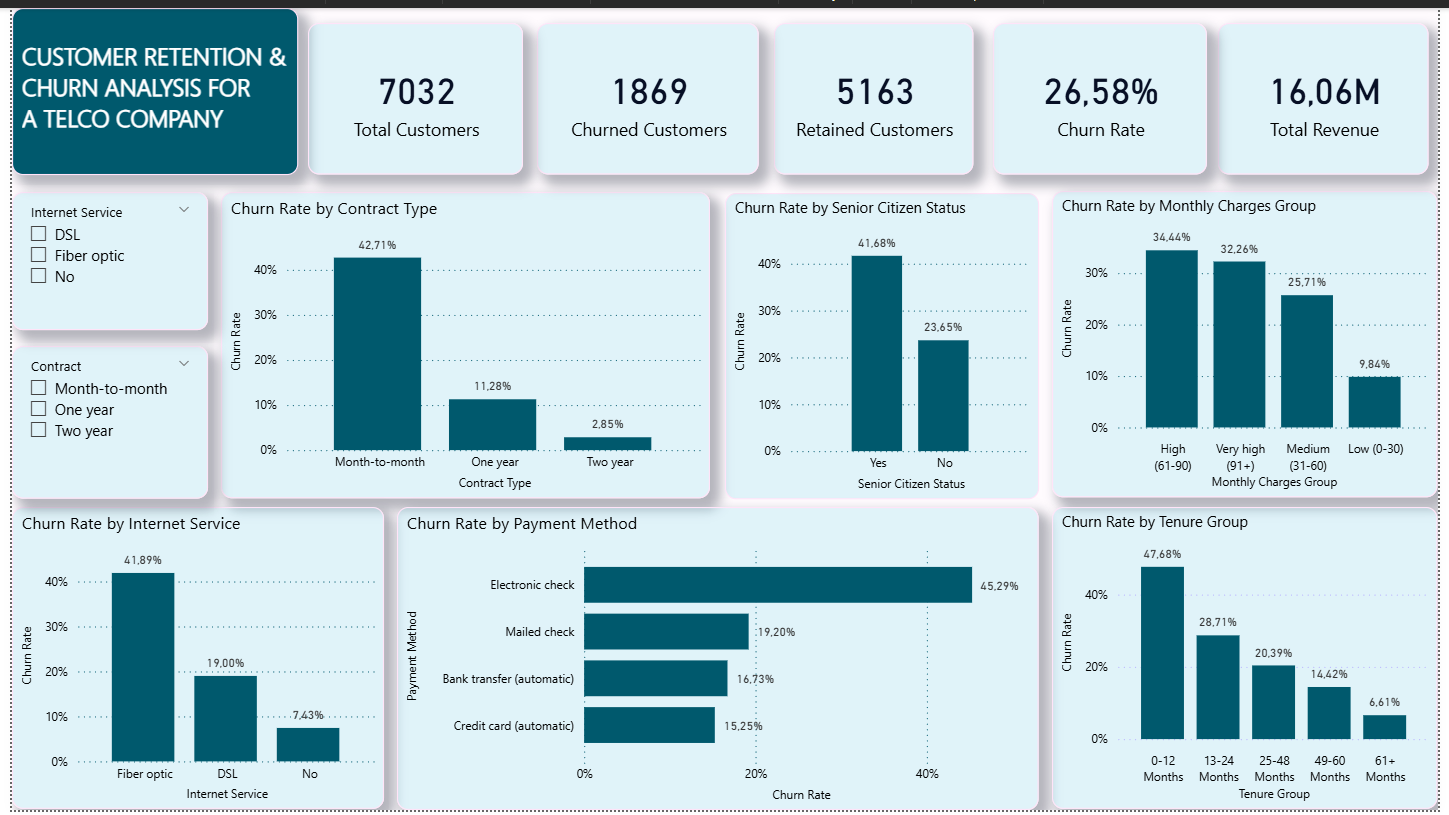

This screenshot's page, from the dashboard's own definition file:
{"tool":"powerbi","page":{"name":"Dashboiard","canvas":[1280,720],"ordinal":0},"visuals":[{"type":"columnChart","fields":{"Y":["telco_churn telco-customer-churn.ChurnRate"],"Category":["telco_churn telco-customer-churn.Contract"]},"box":[187.6,165.2,439,274.7],"z":0},{"type":"columnChart","fields":{"Y":["telco_churn telco-customer-churn.ChurnRate"],"Category":["telco_churn telco-customer-churn.InternetService"]},"box":[0,448.4,333.6,271.4],"z":1000},{"type":"clusteredBarChart","fields":{"Category":["telco_churn telco-customer-churn.PaymentMethod"],"Y":["telco_churn telco-customer-churn.ChurnRate"]},"box":[345.6,448,576.4,272],"z":2000},{"type":"columnChart","fields":{"Y":["telco_churn telco-customer-churn.ChurnRate"],"Category":["telco_churn telco-customer-churn.SeniorCitizenFlag"]},"box":[640.1,166.1,281.9,274.7],"z":3000},{"type":"columnChart","fields":{"Y":["telco_churn telco-customer-churn.ChurnRate"],"Category":["telco_churn telco-customer-churn.ChargesGroup"]},"box":[933.7,164.4,346.3,275.3],"z":4000},{"type":"columnChart","fields":{"Y":["telco_churn telco-customer-churn.ChurnRate"],"Category":["telco_churn telco-customer-churn.TenureGroup"]},"box":[933.7,448.4,346.3,271.4],"z":5000},{"type":"slicer","fields":{"Values":["telco_churn telco-customer-churn.Contract"]},"box":[0,303.4,176,137.4],"z":6000},{"type":"slicer","fields":{"Values":["telco_churn telco-customer-churn.InternetService"]},"box":[0,165.2,176,123.9],"z":7000},{"type":"textbox","box":[0,0,256.8,149.8],"z":8000},{"type":"card","fields":{"Values":["telco_churn telco-customer-churn.Total Revenue"]},"box":[1082.7,13.5,189.4,136.5],"z":9000},{"type":"card","fields":{"Values":["telco_churn telco-customer-churn.ChurnRate"]},"box":[880.7,13.5,192.1,136.5],"z":10000},{"type":"card","fields":{"Values":["telco_churn telco-customer-churn.Retained Customers"]},"box":[684.1,13.5,178.7,136.5],"z":11000},{"type":"card","fields":{"Values":["telco_churn telco-customer-churn.Churned Customers"]},"box":[471.3,13.5,199.3,136.5],"z":12000},{"type":"card","fields":{"Values":["CountNonNull(telco_churn telco-customer-churn.customerID)"]},"box":[265.7,13.5,193,136.5],"z":13000}]}

Visuals, with their boxes in screenshot pixels (x1, y1, x2, y2), scaled from the page's 1280x720 canvas onto the 1449x815 screenshot:
columnChart - telco_churn telco-customer-churn.ChurnRate x telco_churn telco-customer-churn.Contract: BBox(212, 187, 709, 498)
columnChart - telco_churn telco-customer-churn.ChurnRate x telco_churn telco-customer-churn.InternetService: BBox(0, 508, 378, 814)
clusteredBarChart - telco_churn telco-customer-churn.PaymentMethod x telco_churn telco-customer-churn.ChurnRate: BBox(391, 507, 1044, 814)
columnChart - telco_churn telco-customer-churn.ChurnRate x telco_churn telco-customer-churn.SeniorCitizenFlag: BBox(725, 188, 1044, 499)
columnChart - telco_churn telco-customer-churn.ChurnRate x telco_churn telco-customer-churn.ChargesGroup: BBox(1057, 186, 1448, 498)
columnChart - telco_churn telco-customer-churn.ChurnRate x telco_churn telco-customer-churn.TenureGroup: BBox(1057, 508, 1448, 814)
slicer - telco_churn telco-customer-churn.Contract: BBox(0, 343, 199, 499)
slicer - telco_churn telco-customer-churn.InternetService: BBox(0, 187, 199, 327)
textbox: BBox(0, 0, 291, 170)
card - telco_churn telco-customer-churn.Total Revenue: BBox(1226, 15, 1440, 170)
card - telco_churn telco-customer-churn.ChurnRate: BBox(997, 15, 1214, 170)
card - telco_churn telco-customer-churn.Retained Customers: BBox(774, 15, 977, 170)
card - telco_churn telco-customer-churn.Churned Customers: BBox(534, 15, 759, 170)
card - CountNonNull(telco_churn telco-customer-churn.customerID): BBox(301, 15, 519, 170)
